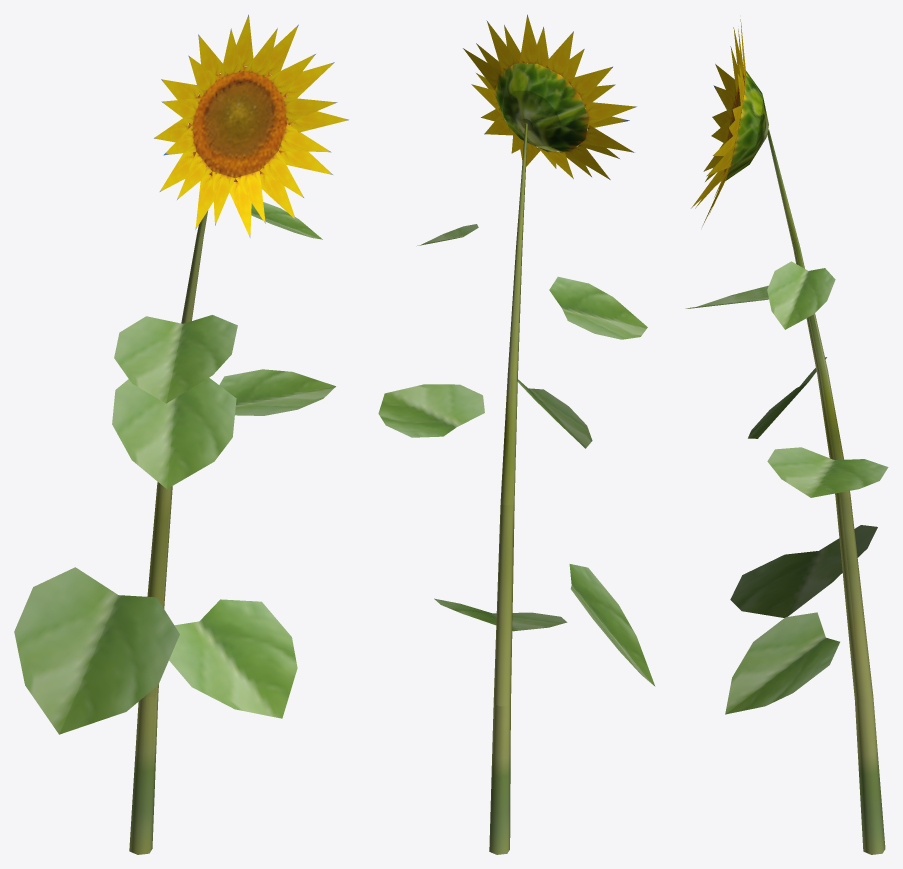
The model's file is girasol.obj.
3 views of the same model, side by side, from view 1: azimuth 30°, elevation 25°; view 2: azimuth 150°, elevation 25°; view 3: azimuth 270°, elevation 25° (orthographic). The views are drawn at different scales.
Parts seen in each view (by area): view 1: girasol:h3, girasol:h5, girasol:h4, girasol:f, girasol:h1, girasol:t, girasol:h2, girasol:h, girasol:g2, girasol:g4, girasol:g6, girasol:g8 (+6 smaller); view 2: girasol:t, girasol:f, girasol:h2, girasol:h1, girasol:h3, girasol:h4, girasol:h5, girasol:g15, girasol:g19, girasol:g17, girasol:g21, girasol:g13 (+1 smaller); view 3: girasol:t, girasol:h5, girasol:h3, girasol:h2, girasol:h, girasol:f, girasol:h4, girasol:h1.
Boxes of the visible parts, <box> form: girasol:h3: <box>14,567,179,734</box>; girasol:h5: <box>169,599,297,718</box>; girasol:h4: <box>112,377,236,488</box>; girasol:f: <box>188,66,290,181</box>; girasol:h1: <box>114,315,237,403</box>; girasol:t: <box>129,174,209,854</box>; girasol:h2: <box>219,369,335,415</box>; girasol:h: <box>251,202,322,239</box>; girasol:g2: <box>283,97,337,123</box>; girasol:g4: <box>279,124,331,152</box>; girasol:g6: <box>260,151,303,197</box>; girasol:g8: <box>235,171,265,223</box>; girasol:t: <box>489,123,527,854</box>; girasol:f: <box>495,63,588,151</box>; girasol:h2: <box>378,384,484,437</box>; girasol:h1: <box>549,276,647,339</box>; girasol:h3: <box>569,564,655,686</box>; girasol:h4: <box>517,379,592,448</box>; girasol:h5: <box>434,598,567,631</box>; girasol:g15: <box>583,101,636,124</box>; girasol:g19: <box>543,31,573,79</box>; girasol:g17: <box>567,66,612,100</box>; girasol:g21: <box>519,14,542,65</box>; girasol:g13: <box>582,125,634,152</box>; girasol:t: <box>767,129,885,854</box>; girasol:h5: <box>725,612,839,714</box>; girasol:h3: <box>730,525,877,617</box>; girasol:h2: <box>767,447,888,497</box>; girasol:h: <box>767,261,835,329</box>; girasol:f: <box>724,70,768,180</box>; girasol:h4: <box>748,357,826,438</box>; girasol:h1: <box>685,285,768,308</box>.
Size of the model in its own units: 0.5803 by 1.62 by 0.3588.
1 material, 1 textured.
